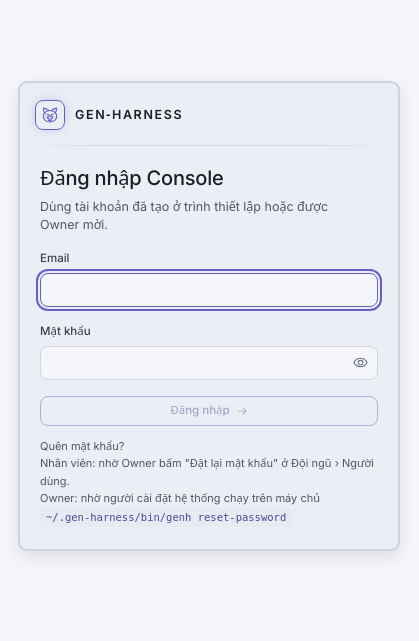
LoginPage giới hạn đăng nhập › 429 LOGIN_RATE_LIMITED: câu thân thiện, số phút và mã lỗi trong Chi tiết kỹ thuật
The width and height of the screenshot is (419, 641).
Type "owner@example.vn" into the field labelled "Email" at (209, 290), box top-left (40, 273), bottom-right (378, 307)
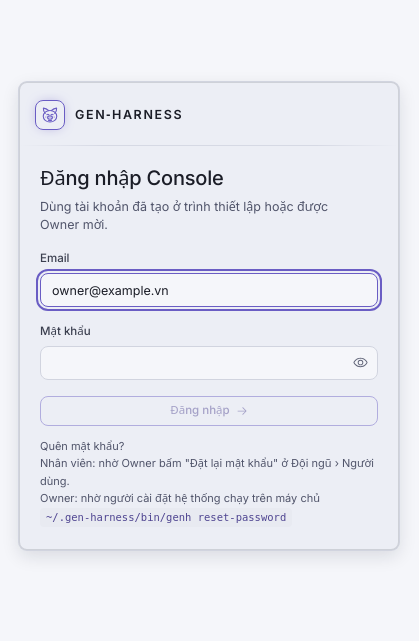
Type "mat-khau-sai-123" into the password field labelled "Mật khẩu" at (209, 363), box top-left (40, 346), bottom-right (378, 380)
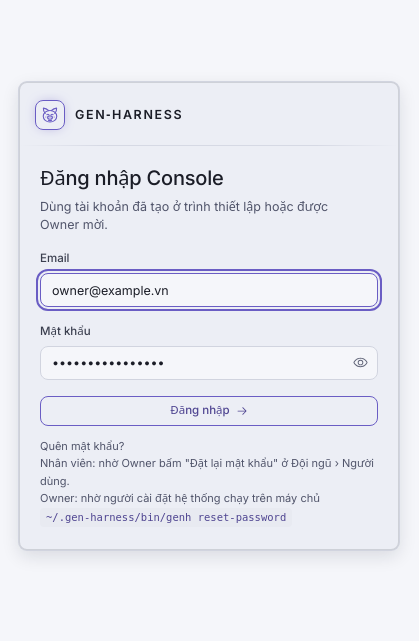
Click the button "Đăng nhập" at (209, 411), box top-left (40, 396), bottom-right (378, 426)
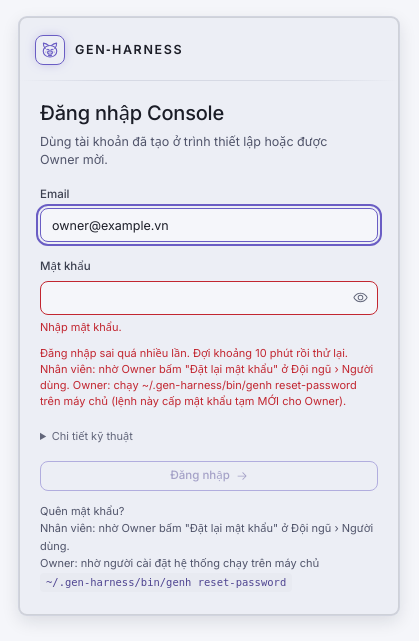
Now the message shows "Đăng nhập sai quá nhiều lần", box top-left (40, 346), bottom-right (373, 408)
Now the message shows "10 phút", box top-left (40, 346), bottom-right (373, 408)
